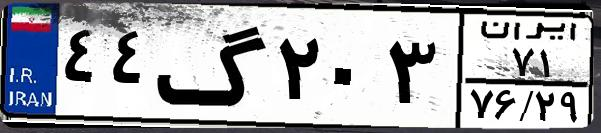0: (330, 28, 385, 110)
1: (537, 27, 568, 80)
2: (270, 28, 330, 110), (535, 70, 560, 125)
3: (385, 28, 445, 110)
4: (57, 26, 110, 100), (110, 28, 156, 98)
6: (495, 70, 520, 125)
7: (508, 27, 537, 80), (470, 70, 495, 125)
9: (560, 70, 590, 125)
گ: (156, 12, 270, 120)
